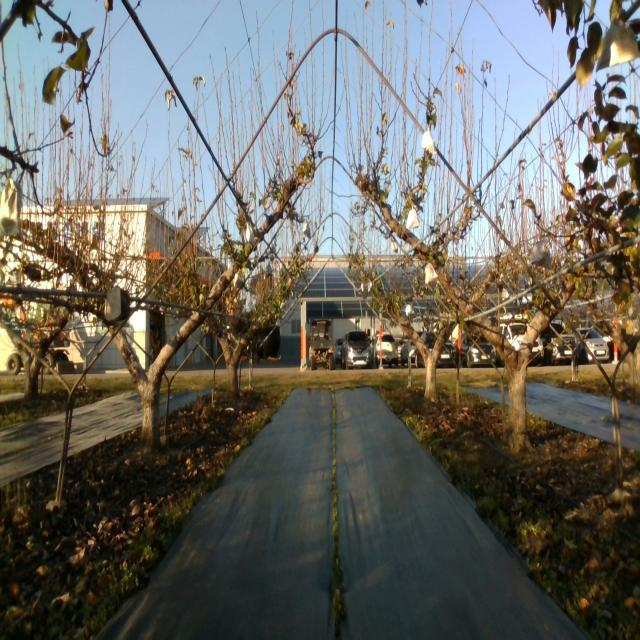pearbags: (595, 19, 640, 72), (530, 240, 552, 270), (421, 128, 436, 154), (424, 262, 438, 284), (406, 207, 419, 230)
